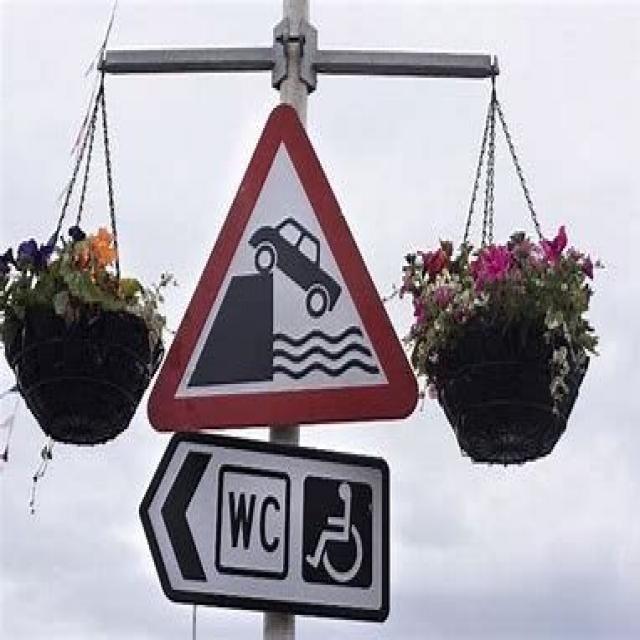QUAY_SIDE_OR_RIVER_BANK: (146, 100, 417, 422)
